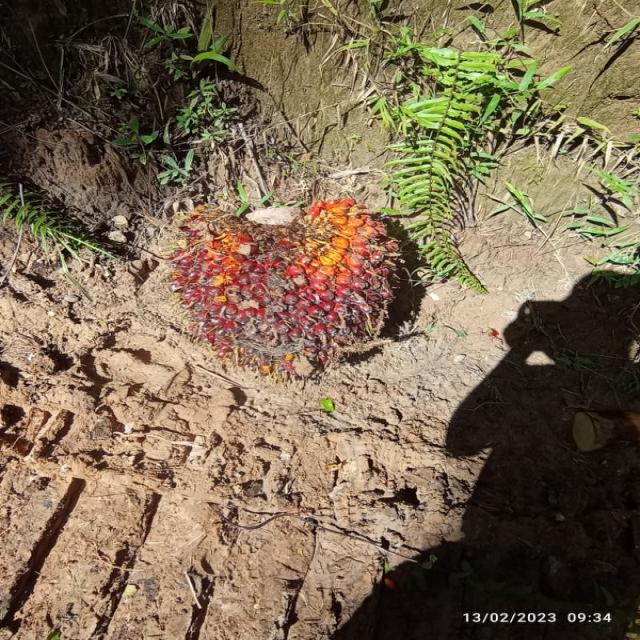fraksi 3: (144, 174, 432, 398)
